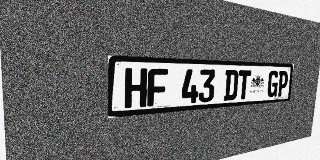3: (198, 69, 215, 103)
4: (181, 69, 200, 104)
D: (223, 70, 239, 101)
F: (147, 68, 168, 107)
G: (267, 71, 279, 97)
H: (124, 68, 147, 108)
P: (277, 71, 289, 97)
T: (237, 70, 251, 100)
